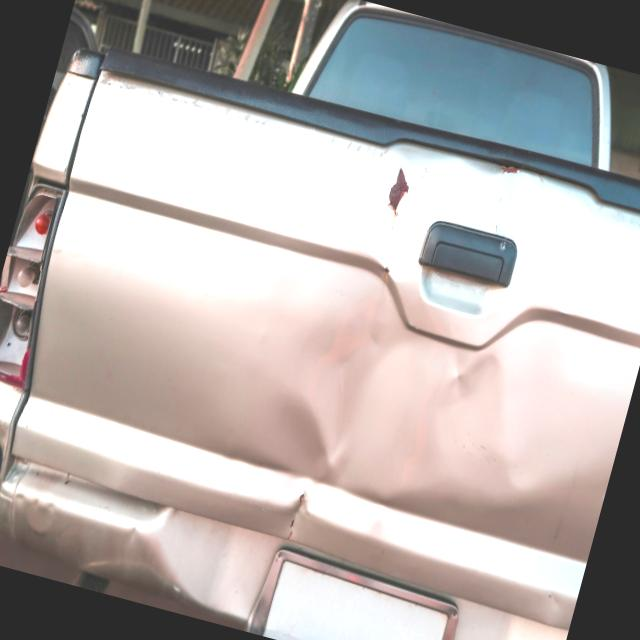Cabossage: (226, 276, 637, 576), (0, 448, 196, 595), (429, 152, 538, 239)
Phare abime: (0, 184, 76, 385)
Rayure: (377, 160, 417, 223)
